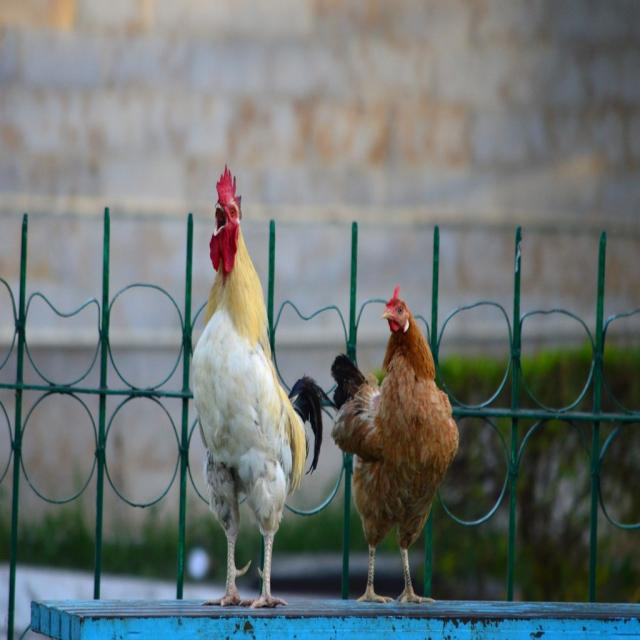Chicken: (184, 166, 327, 595), (332, 283, 458, 606)
